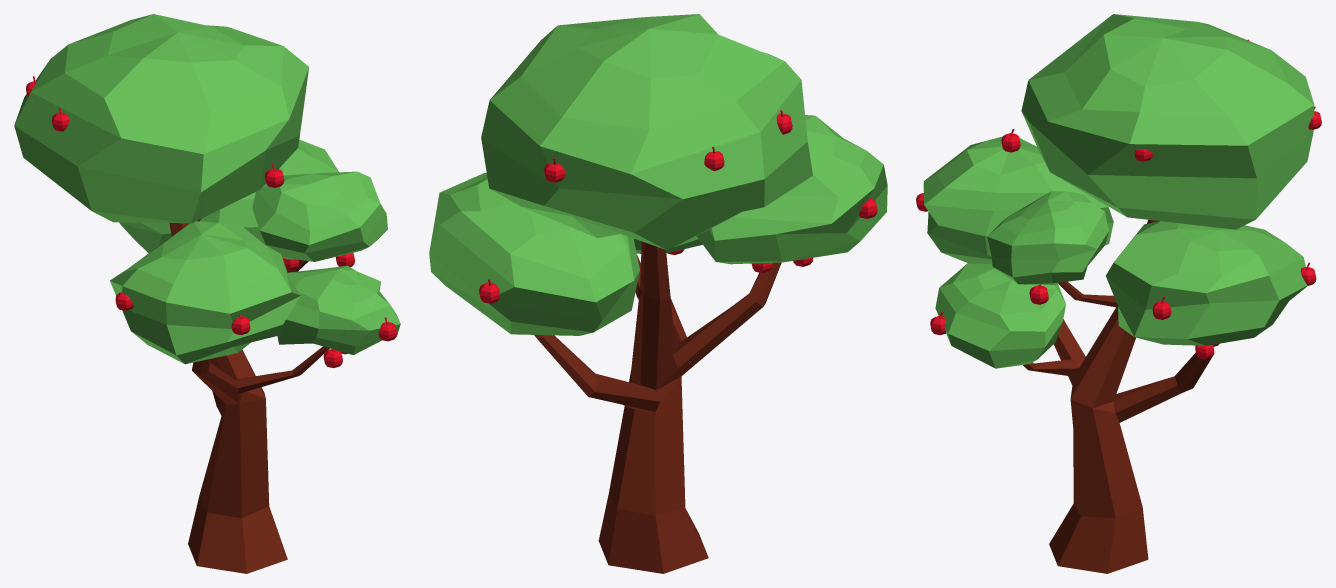
File: AppleTree.gltf
The picture shows the model from 3 angles, left to right: view 1: azimuth 30°, elevation 25°; view 2: azimuth 150°, elevation 25°; view 3: azimuth 270°, elevation 25°; orthographic projection. The views are drawn at different scales.
Visible parts, largest first — view 1: Apple_Circle.001; view 2: Apple_Circle.001; view 3: Apple_Circle.001.
Boxes of the visible parts, <box> form: Apple_Circle.001: <box>14,14,400,573</box>; Apple_Circle.001: <box>429,14,887,573</box>; Apple_Circle.001: <box>916,14,1321,573</box>.
Bounding box in the file's own units: 2.97 × 4.7 × 3.46.
Materials: 2 (1 with a texture image).
